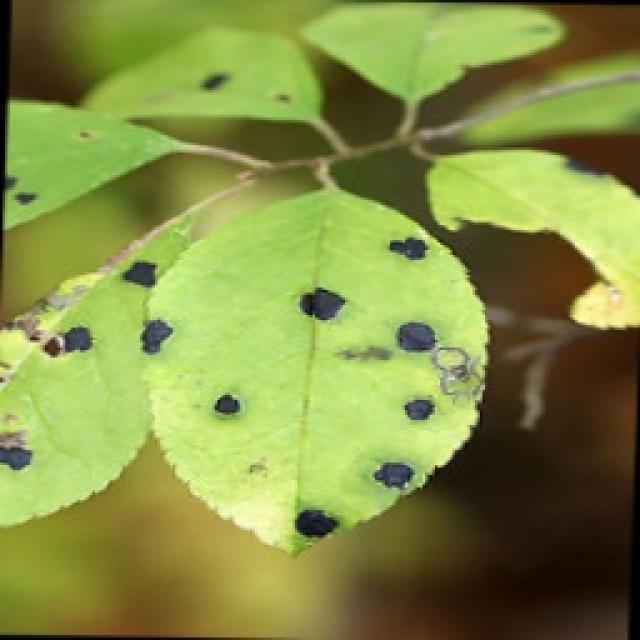Tar_Spot: (138, 183, 490, 555), (0, 252, 160, 530)
